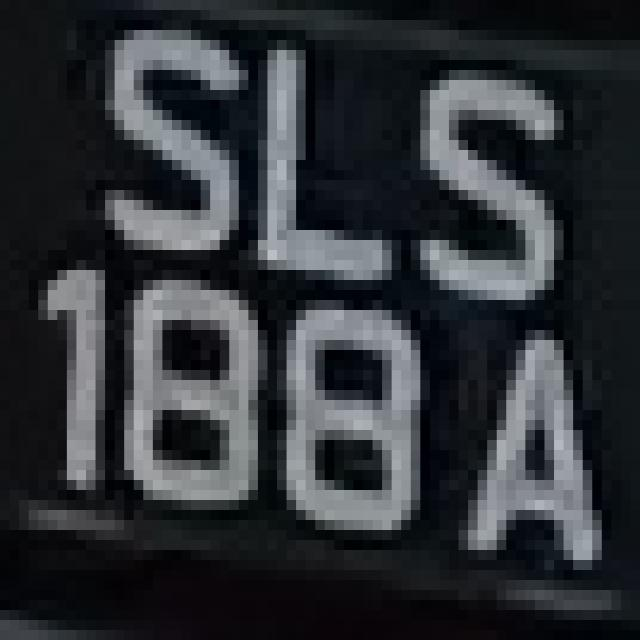1: (28, 270, 134, 510)
8: (239, 280, 439, 550), (115, 250, 248, 560)
A: (449, 300, 602, 590)
L: (229, 20, 401, 310)
S: (382, 40, 573, 290), (76, 50, 239, 280)
